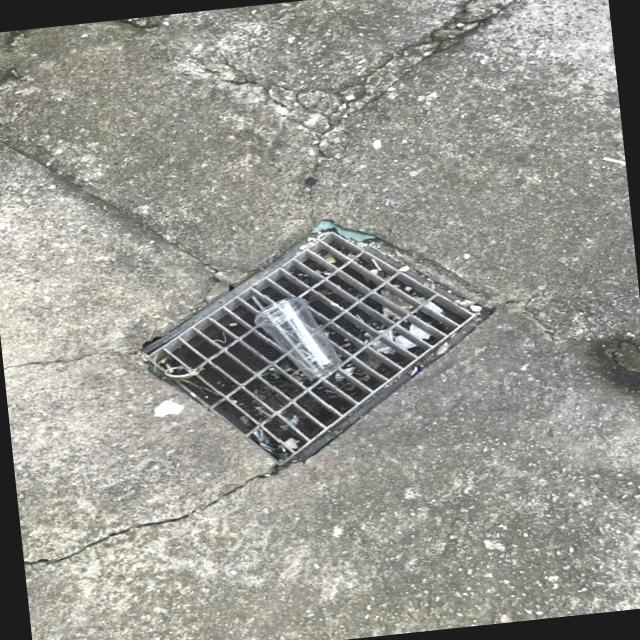drain_area: (165, 259, 469, 446)
drain_full: (145, 231, 475, 465)
